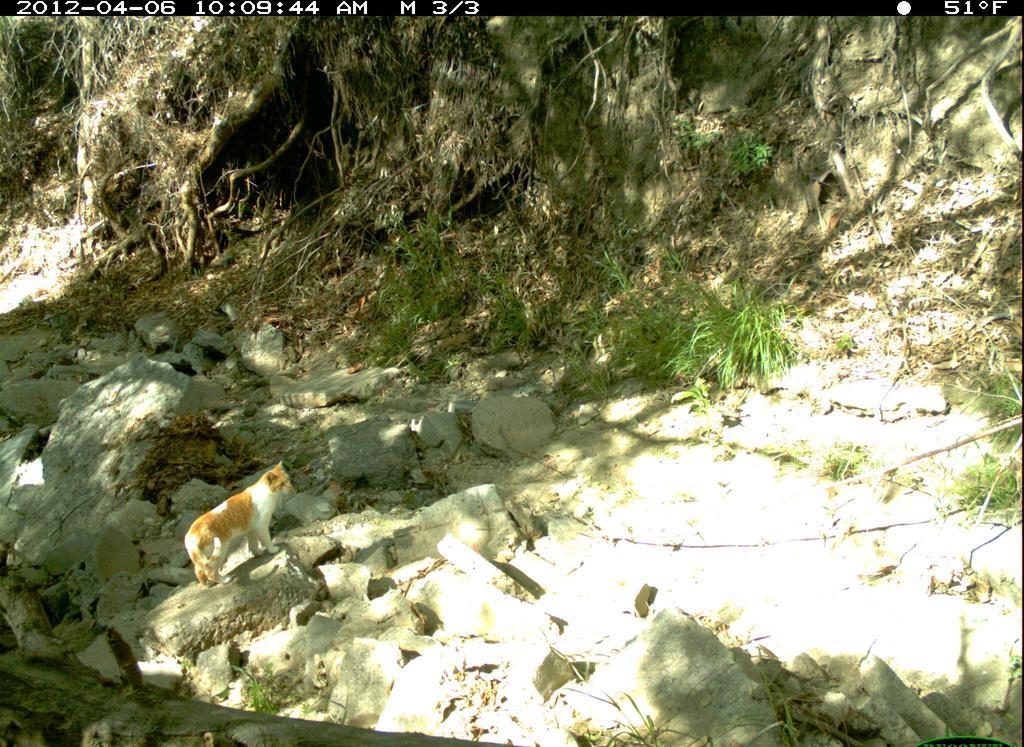cat: (178, 460, 321, 591)
